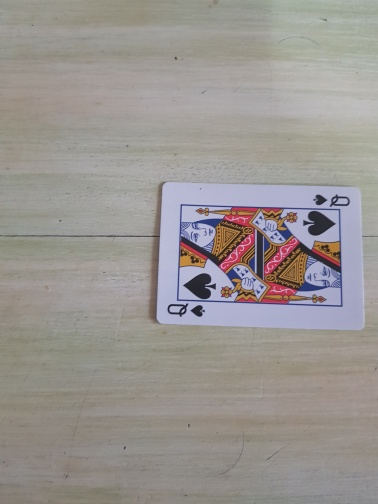queen: (154, 181, 366, 330)
